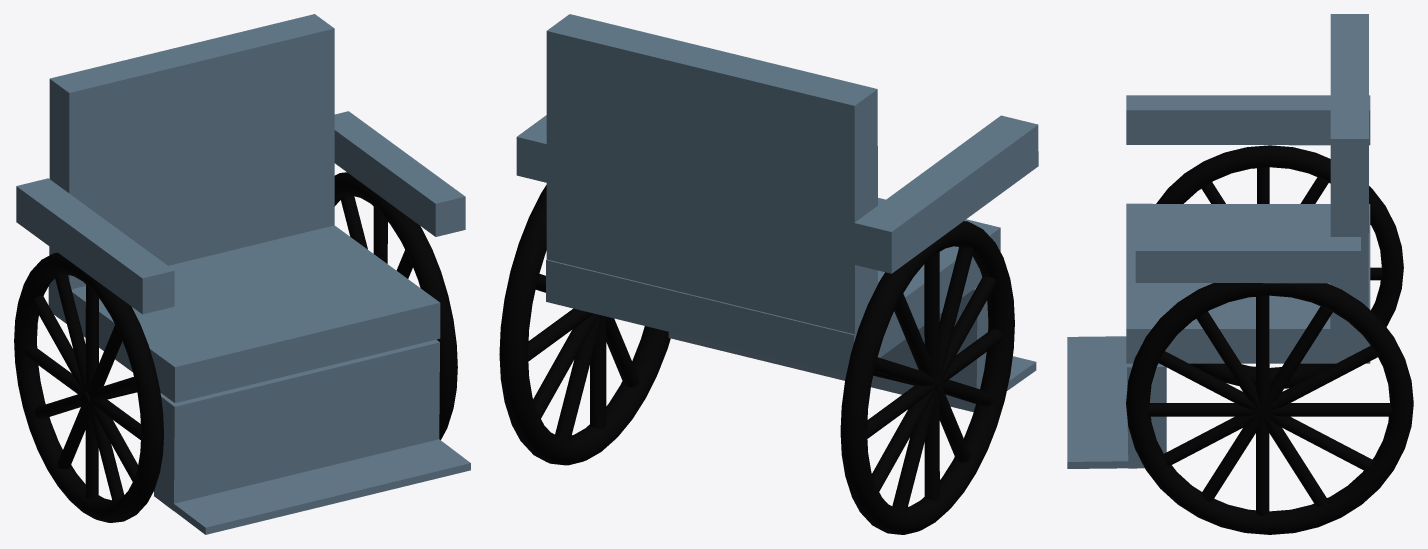
The model's file is wheelchair.fbx.
3 views of the same model, side by side, from view 1: azimuth 30°, elevation 25°; view 2: azimuth 150°, elevation 25°; view 3: azimuth 270°, elevation 25° (orthographic). The views are drawn at different scales.
Visible parts, largest first — view 1: Cube_7, Cube, Cube_2, Torus_1, Cube_3, Cube_1, Cube_9, Torus, Cylinder_1_3, Cylinder_1_4, Cylinder_1_2, Cylinder_1_5 (+4 smaller); view 2: Cube_7, Torus_1, Cube, Cube_1, Torus, Cube_2, Cylinder_1_5, Cylinder_1_4, Cylinder_1_7, Cylinder_1_3, Cylinder_1_6, Cylinder_1_11 (+6 smaller); view 3: Torus, Cube, Cube_7, Cube_9, Cube_1, Cube_3, Torus_1, Cylinder_1_12, Cylinder_1_8, Cylinder_1_13, Cylinder_1_9, Cylinder_1_11 (+3 smaller).
Part boxes in pixels (bbox=[...]): Cube_7: bbox=[49, 14, 334, 318]; Cube: bbox=[48, 225, 440, 402]; Cube_2: bbox=[154, 339, 439, 510]; Torus_1: bbox=[14, 252, 163, 522]; Cube_3: bbox=[160, 439, 470, 534]; Cube_1: bbox=[16, 178, 174, 314]; Cube_9: bbox=[334, 111, 465, 236]; Torus: bbox=[334, 172, 457, 439]; Cylinder_1_3: bbox=[55, 274, 124, 502]; Cylinder_1_4: bbox=[85, 284, 98, 498]; Cylinder_1_2: bbox=[32, 296, 137, 481]; Cylinder_1_5: bbox=[57, 325, 122, 469]; Cube_7: bbox=[546, 14, 877, 335]; Torus_1: bbox=[840, 221, 1014, 534]; Cube: bbox=[546, 198, 1000, 374]; Cube_1: bbox=[854, 115, 1038, 273]; Torus: bbox=[499, 185, 670, 465]; Cube_2: bbox=[668, 287, 988, 411]; Cylinder_1_5: bbox=[892, 247, 973, 512]; Cylinder_1_4: bbox=[924, 252, 939, 500]; Cylinder_1_7: bbox=[872, 276, 996, 491]; Cylinder_1_3: bbox=[894, 293, 970, 462]; Cylinder_1_6: bbox=[867, 329, 1002, 438]; Cylinder_1_11: bbox=[555, 315, 602, 441]; Torus: bbox=[1126, 283, 1413, 534]; Cube: bbox=[1126, 203, 1370, 363]; Cube_7: bbox=[1330, 14, 1368, 359]; Cube_9: bbox=[1135, 237, 1360, 283]; Cube_1: bbox=[1126, 95, 1370, 145]; Cube_3: bbox=[1067, 336, 1144, 468]; Torus_1: bbox=[1156, 145, 1403, 388]; Cylinder_1_12: bbox=[1148, 403, 1391, 416]; Cylinder_1_8: bbox=[1164, 345, 1377, 465]; Cylinder_1_13: bbox=[1158, 351, 1372, 471]; Cylinder_1_9: bbox=[1202, 306, 1332, 501]; Cylinder_1_11: bbox=[1196, 311, 1327, 506].
Size of the model in its own units: 123 by 145 by 117.
